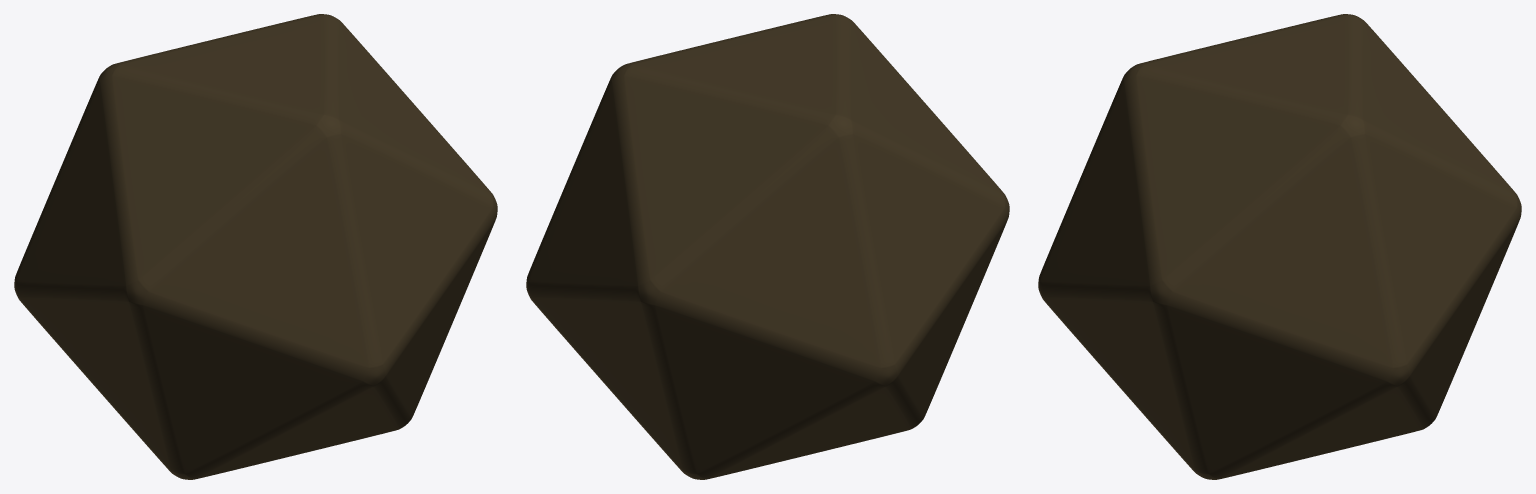
File: Originite_Final.fbx
3 renders of one model, left to right at view 1: azimuth 30°, elevation 25°; view 2: azimuth 150°, elevation 25°; view 3: azimuth 270°, elevation 25°, orthographic.
Parts seen in each view (by area): view 1: Originium_crystal.001; view 2: Originium_crystal.001; view 3: Originium_crystal.001.
Part boxes in pixels (box(x1,y1,x2,y2)): Originium_crystal.001: box(14, 14, 497, 479); Originium_crystal.001: box(526, 14, 1009, 479); Originium_crystal.001: box(1038, 14, 1521, 479).
Bounding box in the file's own units: 1.87 × 1.77 × 2.12.
